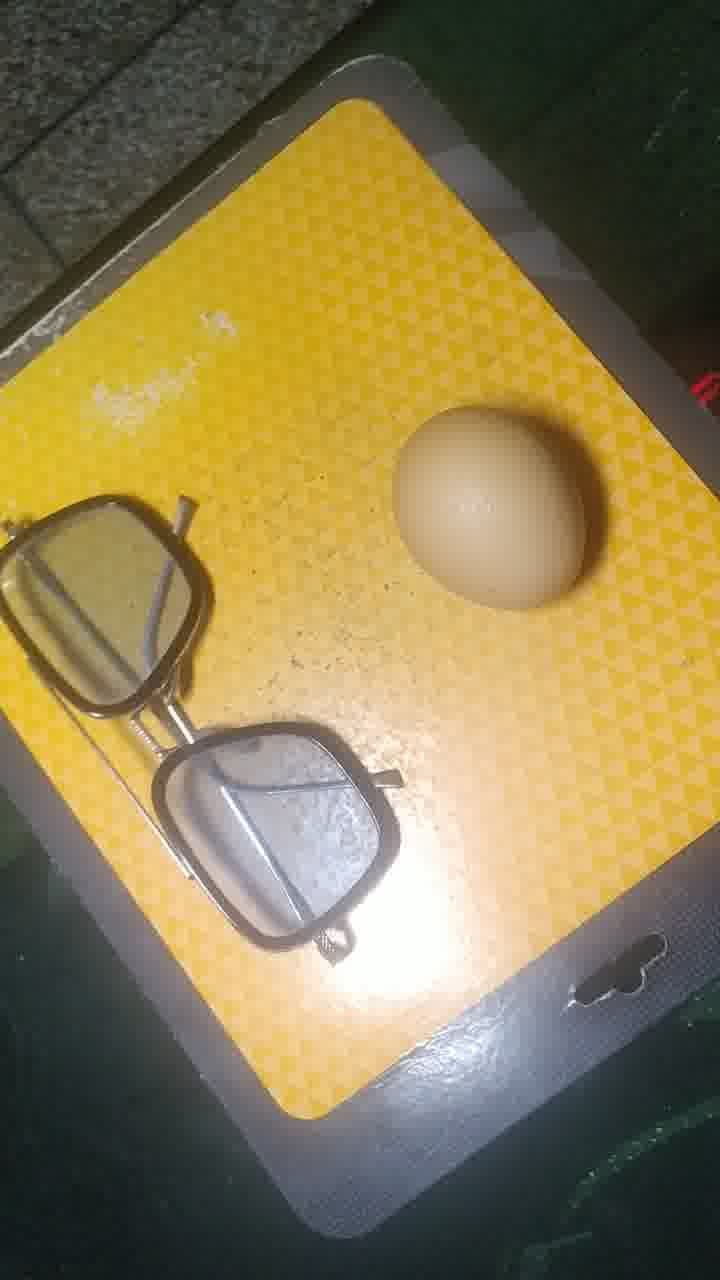egg: (380, 398, 623, 630)
sunglass: (6, 487, 411, 958)
